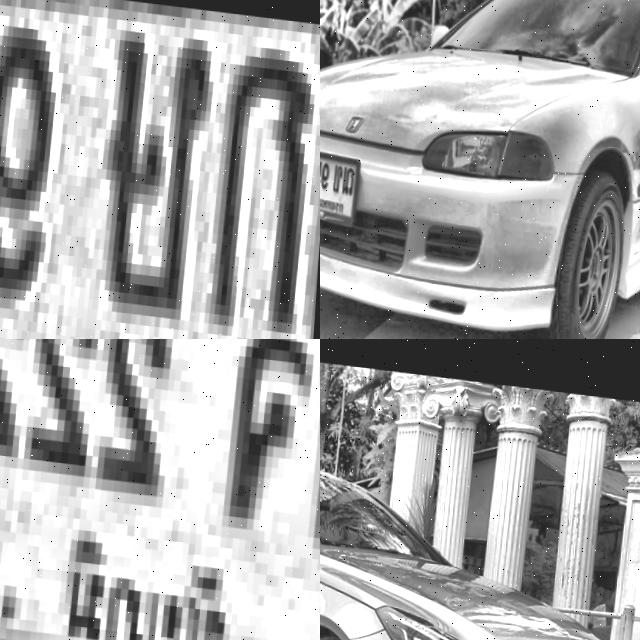license-plate: (0, 0, 320, 339), (0, 339, 320, 640), (320, 137, 367, 228)
